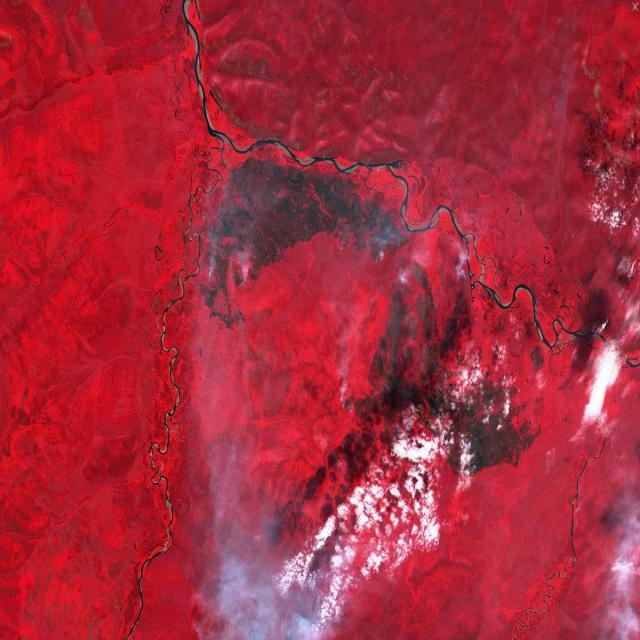fire: (338, 238, 412, 261), (330, 375, 360, 418), (230, 263, 258, 295), (449, 246, 469, 285), (394, 270, 414, 289)
